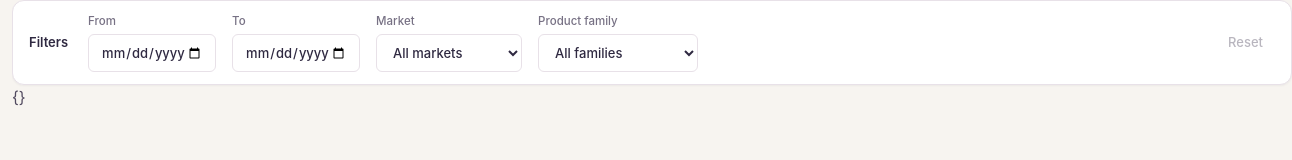
Scenario: FilterBar › applies market and family filters and resets them
Select "France" in the dropdown labelled "Market" at (449, 53), box [376,34,522,72]
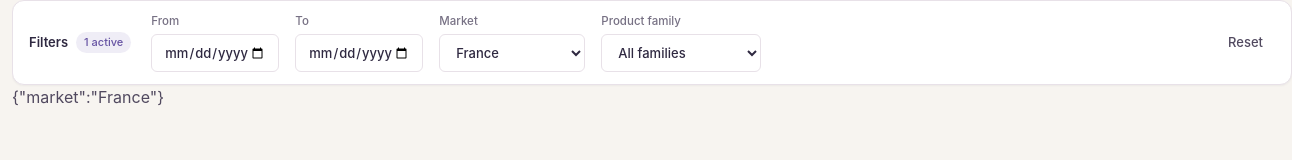
Select "Home & Living" in the dropdown labelled "Product family" at (681, 53), box [601,34,761,72]
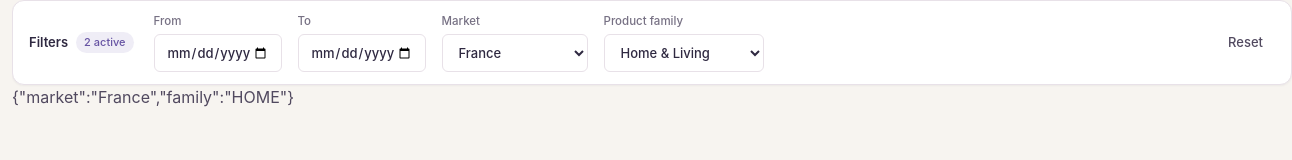
Check: the text "{\"market\":\"France\",\"family\":\"HOME\"}" is shown, box [12,87,294,107]
Check: the text "2 active" is shown, box [76,32,134,53]
Click the button "Reset" at (1246, 43), box [1216,25,1275,60]
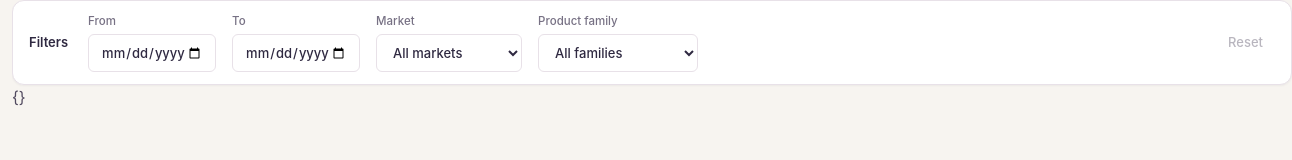
Check: the text "{}" is shown, box [12,87,26,107]
Check: the button "Reset" is disabled, box [1216,25,1275,60]
